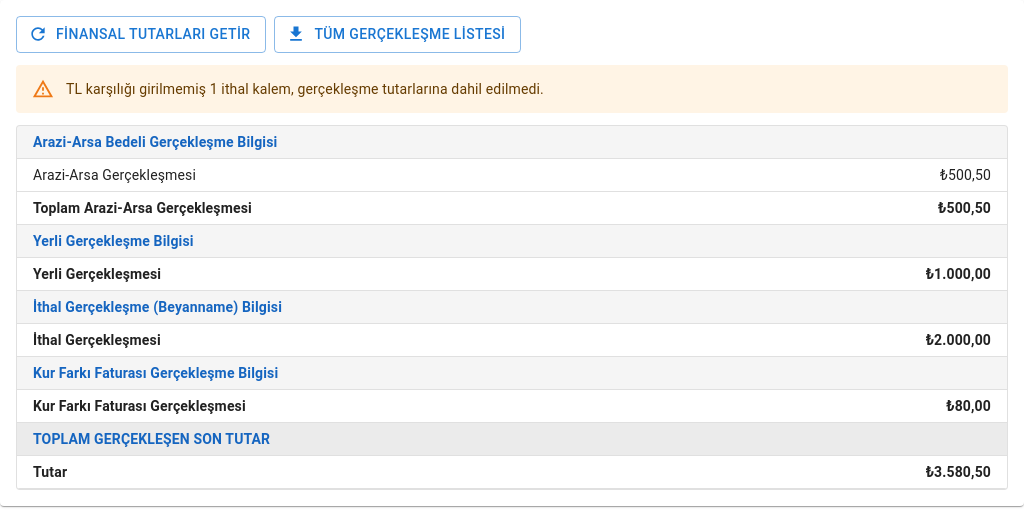
Test: finansal özeti TL olarak gösterir ve elle veya üst sekmeden yeniler
Later steps or results of the test are not shown.
Expected: the column heading "Toplam Arazi-Arsa Gerçekleşmesi" is shown, [17,191,730,224]
Expected: the column heading "İthal Gerçekleşmesi" is shown, [17,323,730,356]
Click the button "Finansal Tutarları Getir". click: x=141, y=34
box: [16,16,266,52]
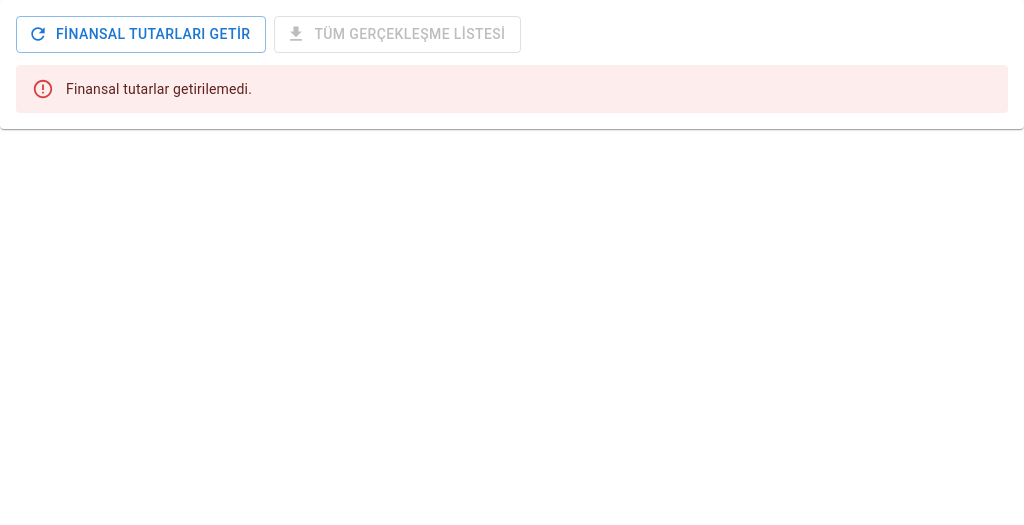
Result: the message reads "Finansal tutarlar getirilemedi." at [66,80,252,96]
Result: the button "Tüm Gerçekleşme Listesi" is disabled at [274,16,522,52]
